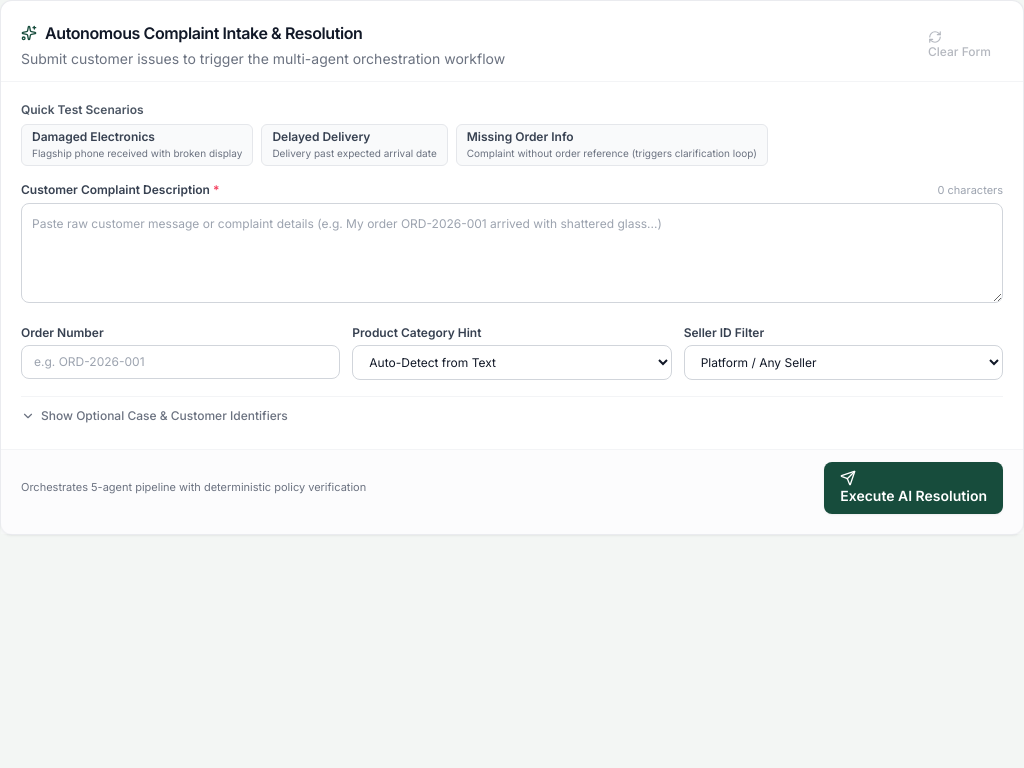
it: Support Agent Workspace › ComplaintProcessingForm Validation & Execution › validates required complaint description before submitting
Click the button "Execute AI Resolution". click: (914, 488)
box: [824,462,1003,514]
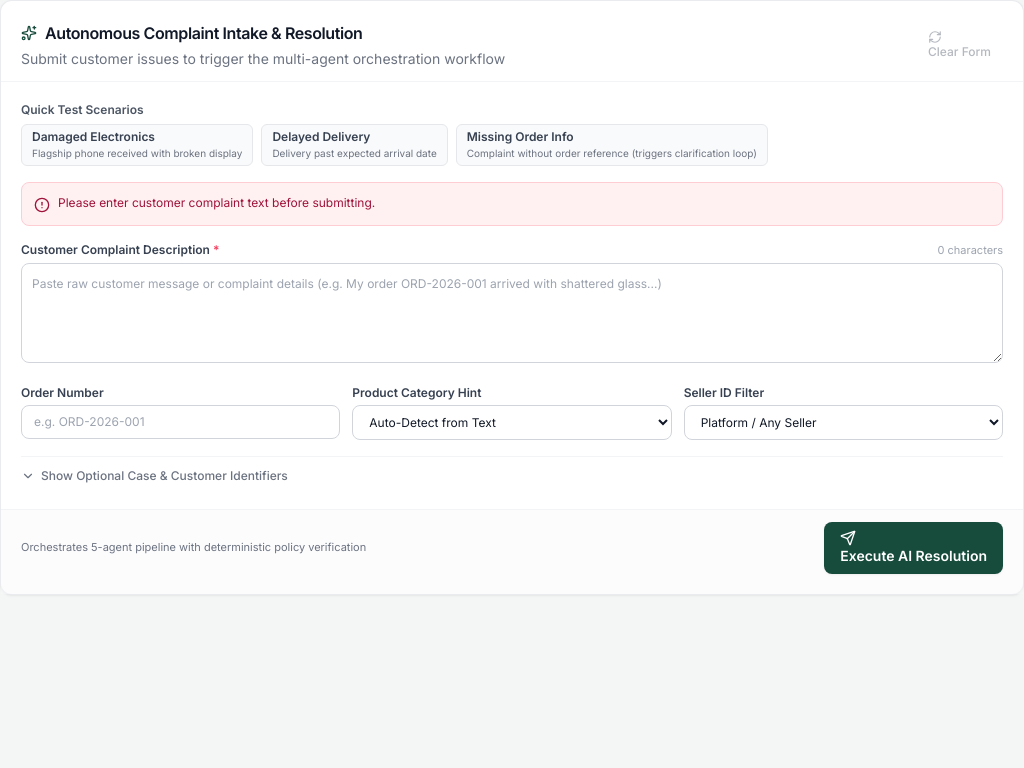
Now the message shows "Please enter customer complaint text before submitting", box [58,195,375,210]
